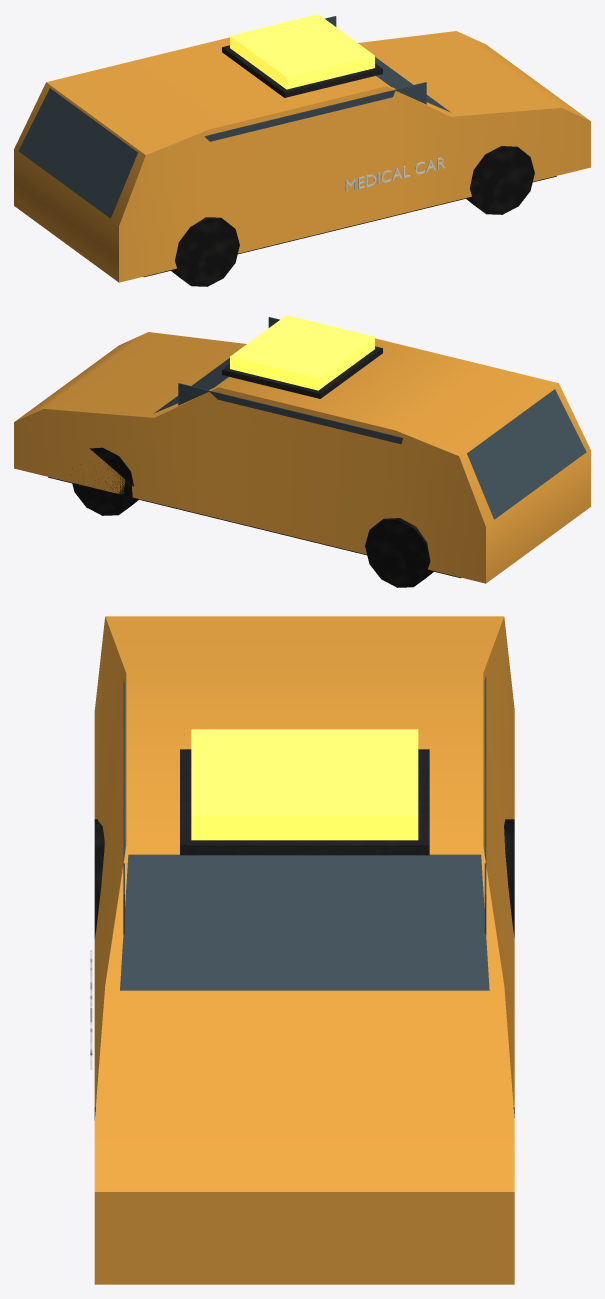
File: medical_car.glb
The picture shows the model from 3 angles, top to bottom: view 1: azimuth 30°, elevation 25°; view 2: azimuth 150°, elevation 25°; view 3: azimuth 270°, elevation 25°; orthographic projection. The views are drawn at different scales.
Parts seen in each view (by area): view 1: medical_car; view 2: medical_car; view 3: medical_car.
Part boxes in pixels (left/top/right/bottom): medical_car: left=14, top=14, right=590, bottom=286; medical_car: left=14, top=315, right=590, bottom=587; medical_car: left=90, top=616, right=514, bottom=1284.
Bounding box in the file's own units: 4.82 × 1.62 × 1.87.
6 materials, 3 textured.
